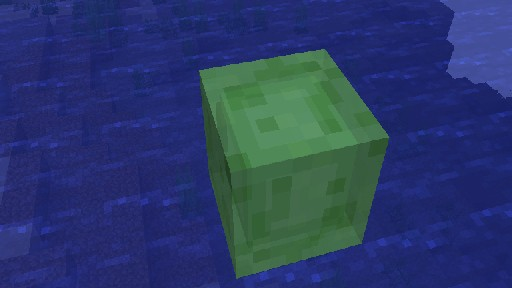slime: (198, 48, 389, 278)
